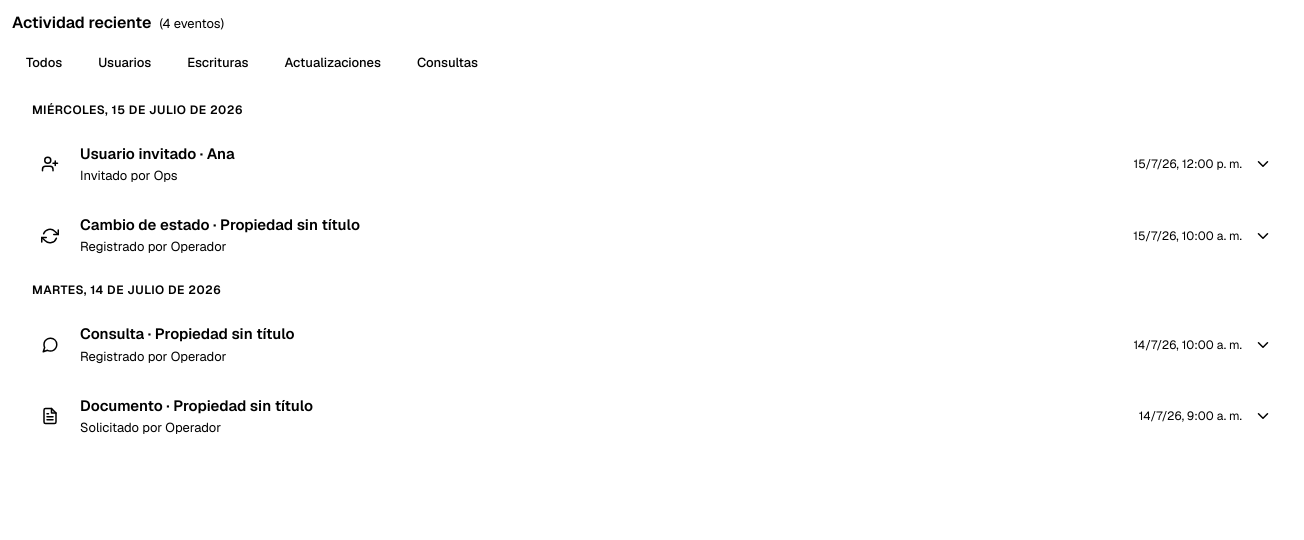
Test: TenantActivityFeed — expandable detail › reveals the technical detail (who/when) when a row is expanded
The width and height of the screenshot is (1304, 540).
Check: the text "Realizado por" is not shown
Click the button "Usuario invitado · Ana Invitado por Ops 15/7/26, 12:00 p. m.".
click(157, 153)  # box [12,128,1292,200]
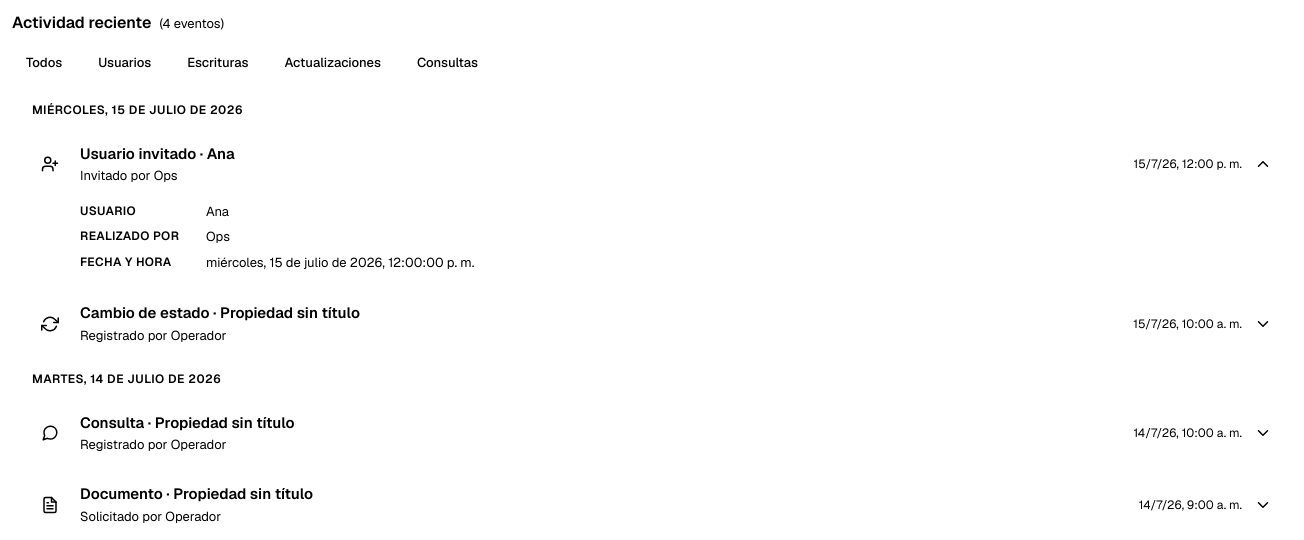
Check: the text "Usuario" is shown, box [80,203,136,219]
Check: the text "Ana" is shown, box [206,203,229,220]
Check: the text "Realizado por" is shown, box [80,227,190,247]
